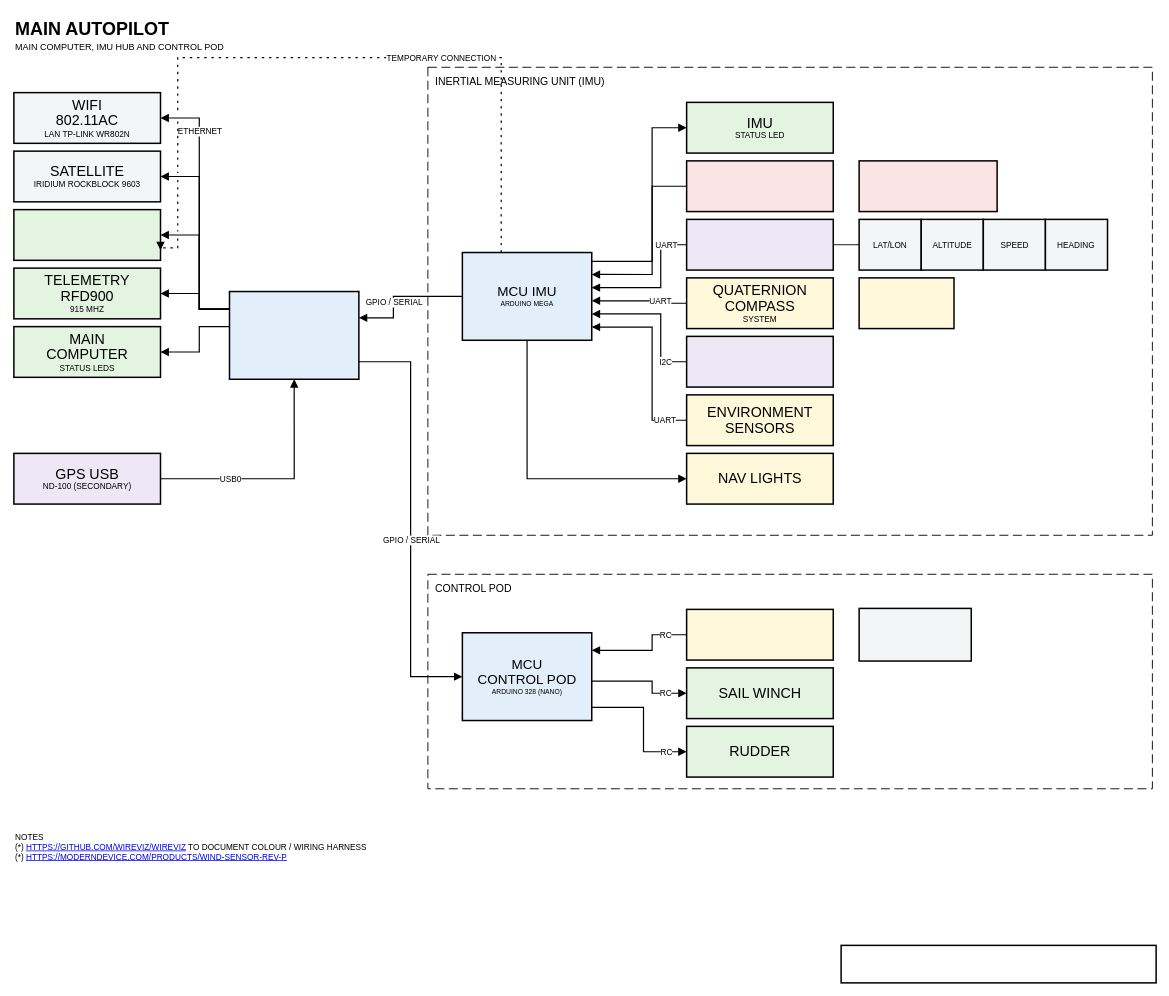
This 1169x996 diagram has some shape labels left out. Each missing label, with the centre of its shape:
CH1 → RUDDER CH2 → SAIL WINCH CH3 → MODE: point 915,634
GPS (MASTER) U-BLOX NEO-M8P / M8N: point 760,244
IMU 9-DOF: point 760,361
MAXIMOOP V3.2 2026 · ELECTRICAL ARCHITECTURE FIG. 2 — MAIN AUTOPILOT: point 998,963
MCU MODULE ARM 32-BIT · ROS · LINUX RASPBERRY PI 3B+: point 293,335
MPU-9250 9-DOF: point 906,303
RC RECEIVER: point 760,634
TELEMETRY LORA 868 MHZ – 915 MHZ: point 87,234
WIND VANE (DIRECTION) AS5043 / AS5060: point 760,186
WIND VANE (SPEED) WIND SENSOR REV P: point 928,186
